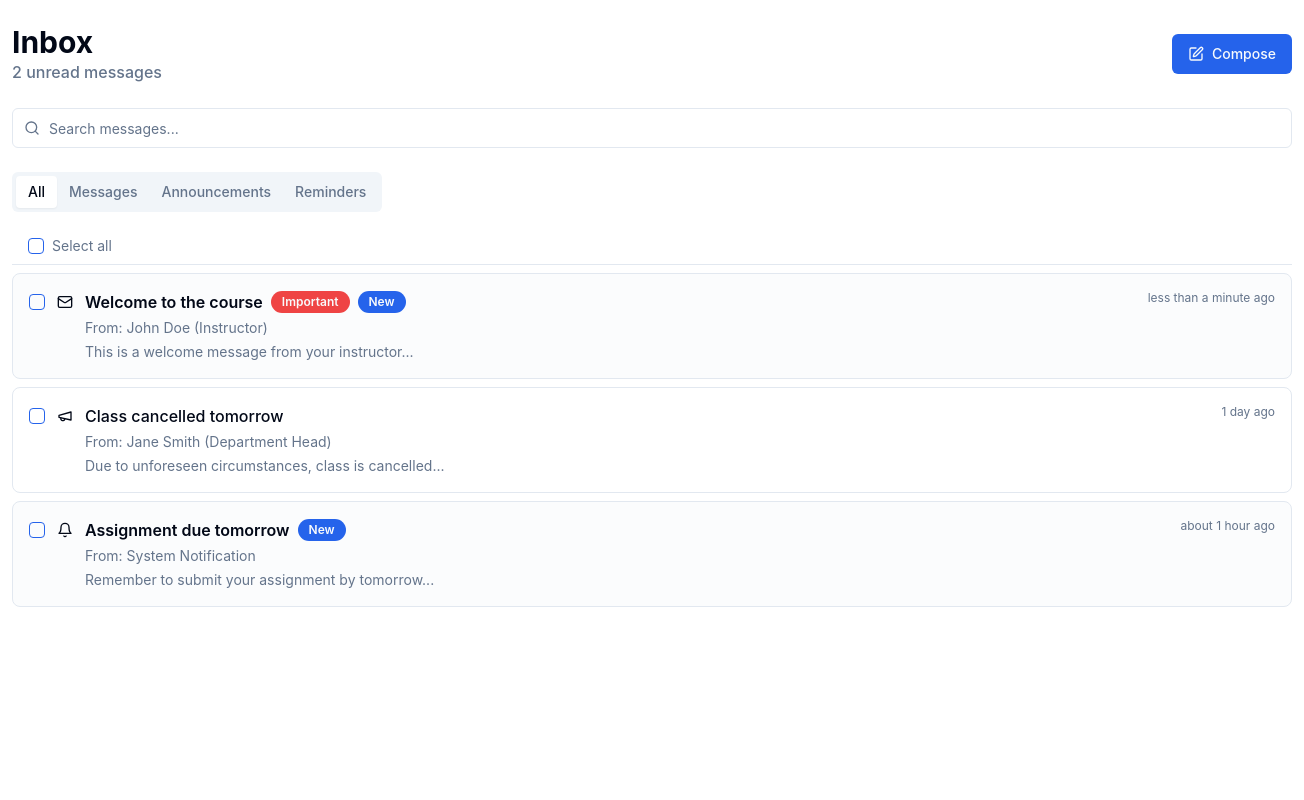
Scenario: InboxPage › allows selecting messages
First checkbox is "Select all", second is first message
Click the checkbox next to "Welcome to the course": point(37, 302) x1=29 y1=294 x2=45 y2=310
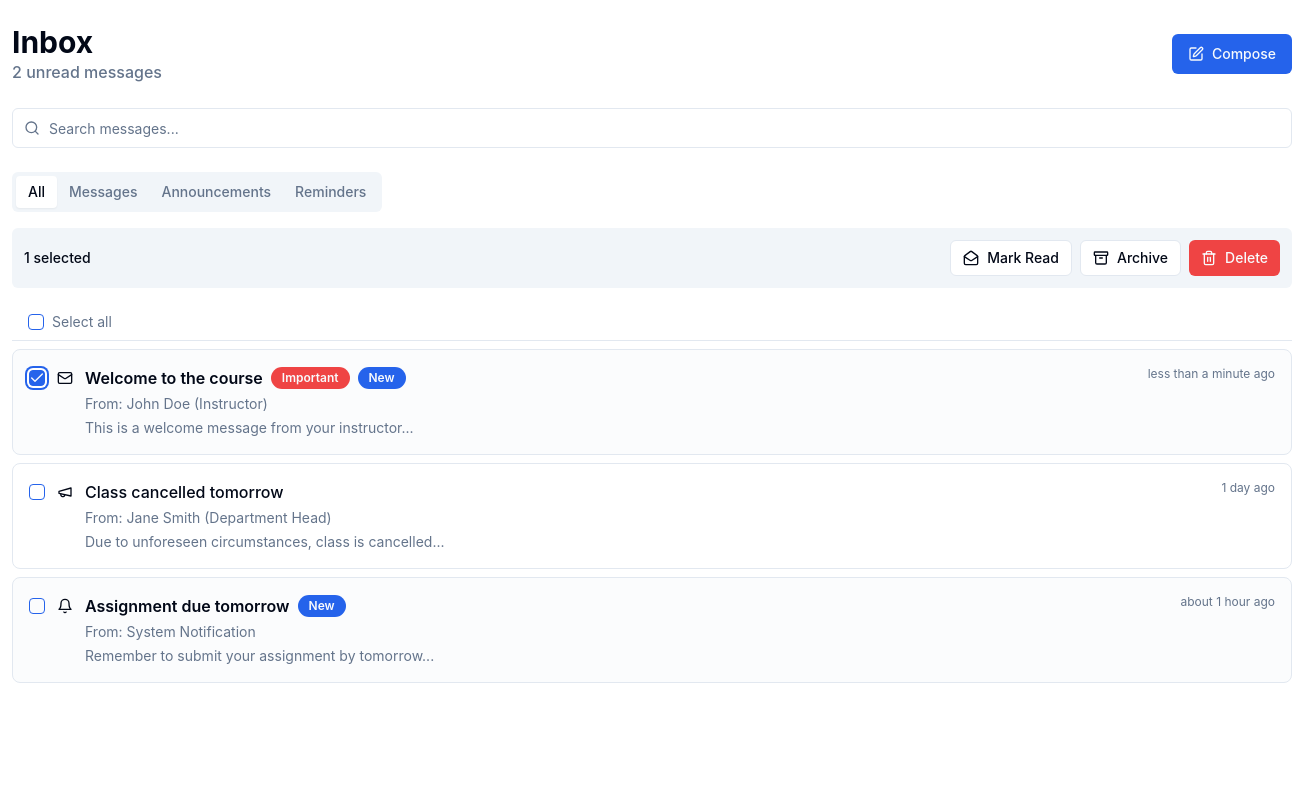
Result: the text "1 selected" is shown at x1=24 y1=248 x2=91 y2=268
